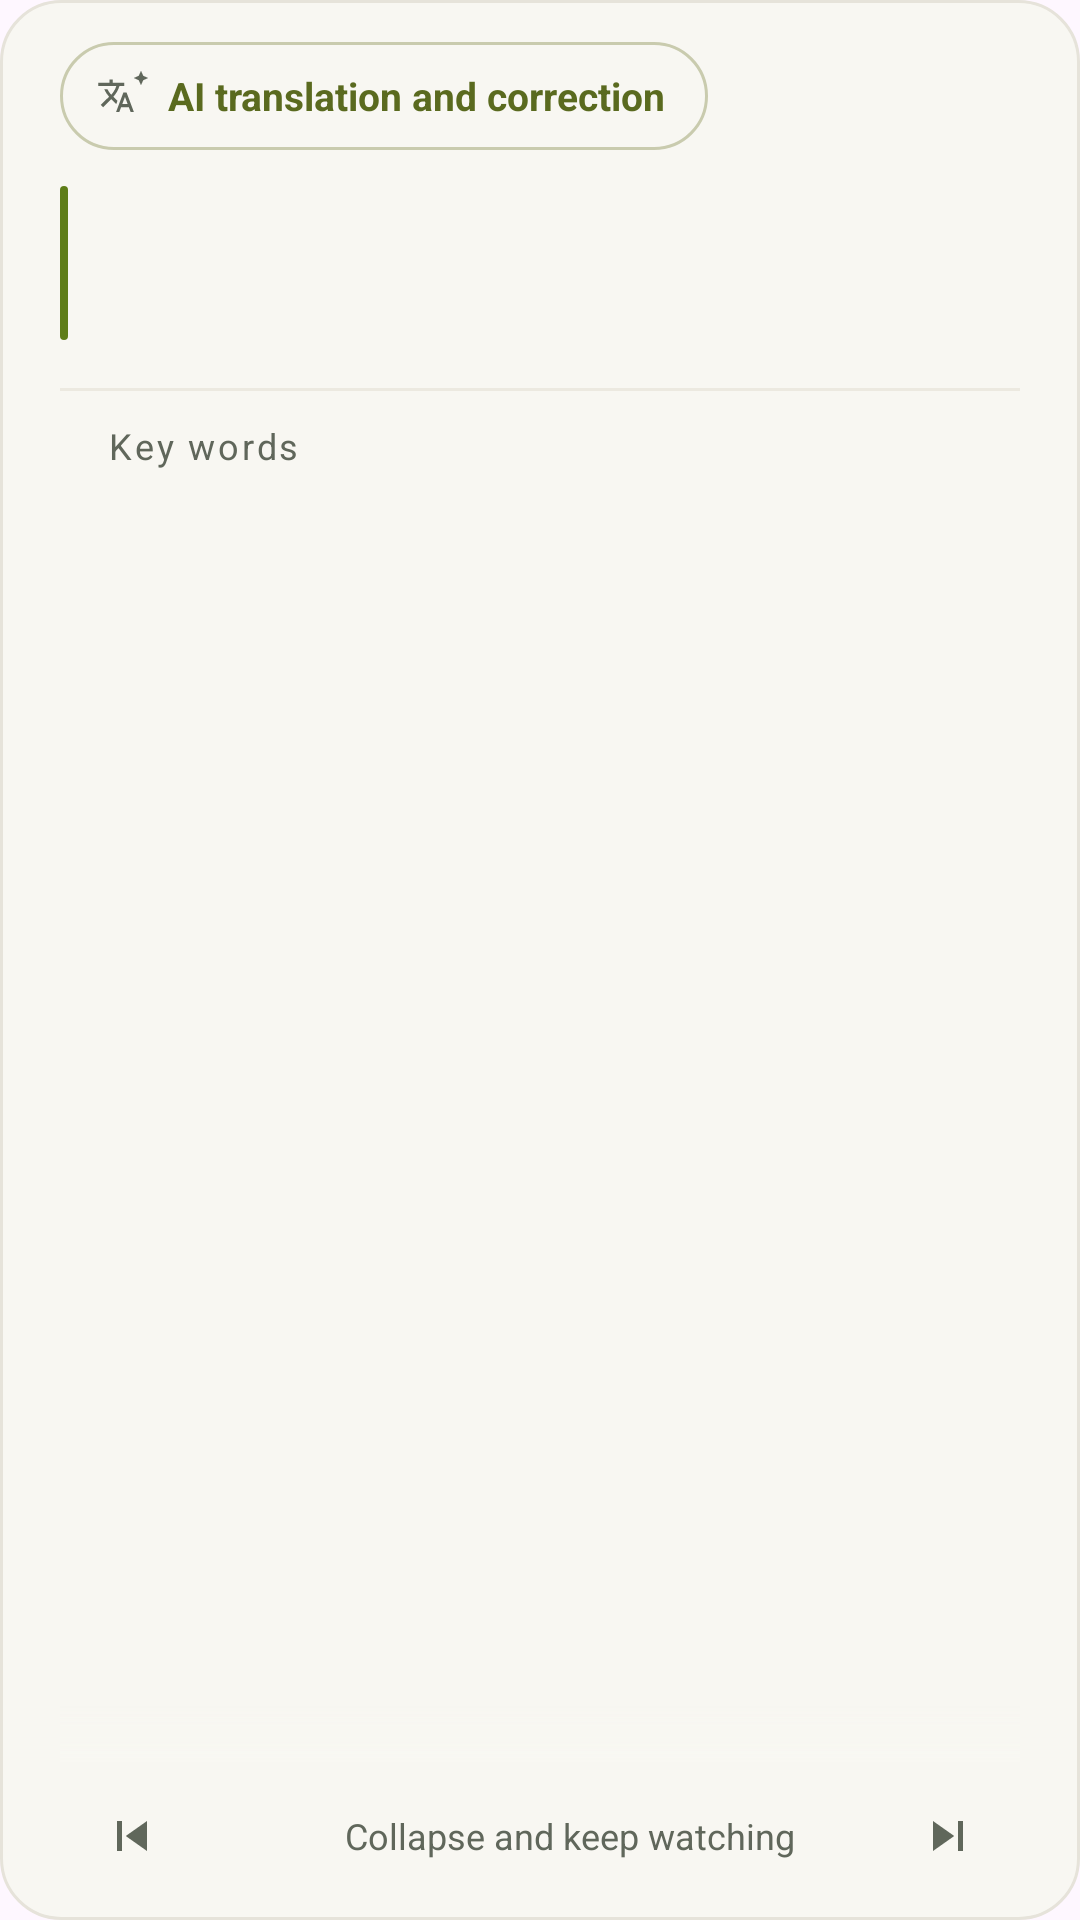

Screen size 1080*1920. Icon name, then its box in pixels as rect(x1, y1, x2, y2):
ai translate: rect(98, 71, 148, 112)
Next line: rect(933, 1821, 963, 1851)
Previous line: rect(117, 1821, 147, 1851)
